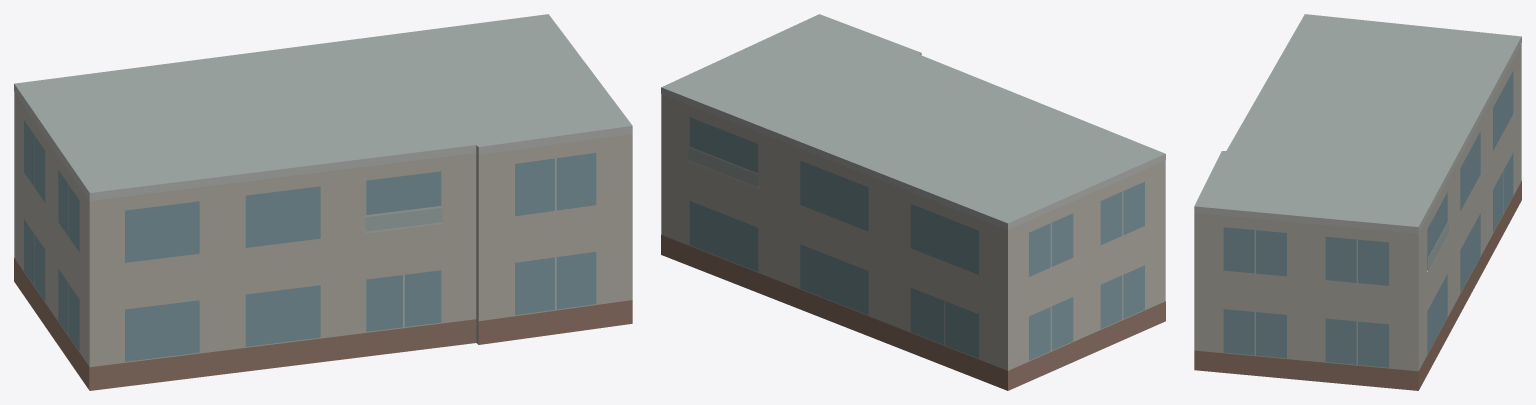
The model's file is survey-upis-32596098.glb.
3 views of the same model, side by side, from view 1: azimuth 30°, elevation 25°; view 2: azimuth 150°, elevation 25°; view 3: azimuth 270°, elevation 25° (orthographic). The views are drawn at different scales.
Visible parts, largest first — view 1: survey-upis-32596098.tmp; view 2: survey-upis-32596098.tmp; view 3: survey-upis-32596098.tmp.
Part boxes in pixels (<box>): survey-upis-32596098.tmp: <box>14,14,632,390</box>; survey-upis-32596098.tmp: <box>661,14,1165,390</box>; survey-upis-32596098.tmp: <box>1194,14,1521,390</box>.
Bounding box in the file's own units: 17.03 × 6.1 × 11.07.
